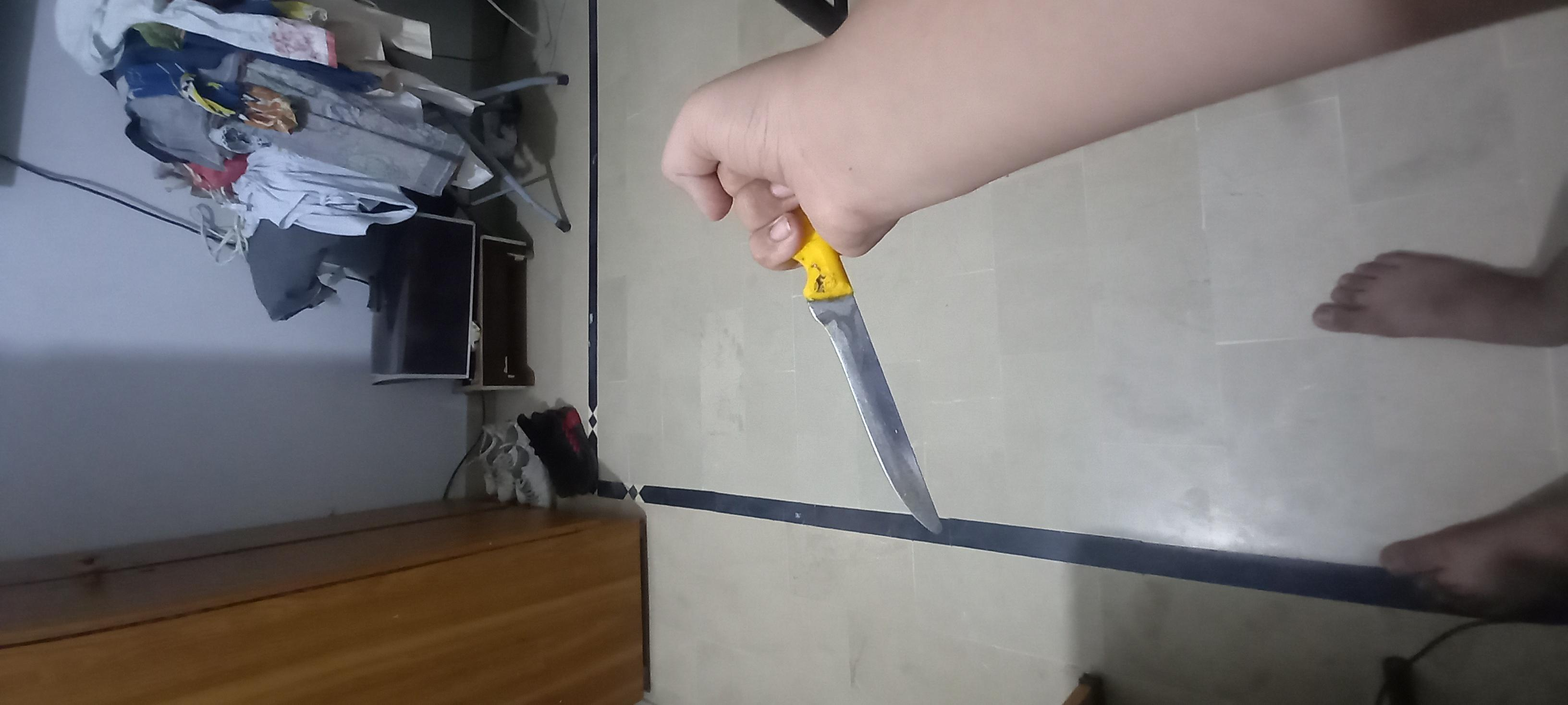knives: (379, 327, 1180, 423)
